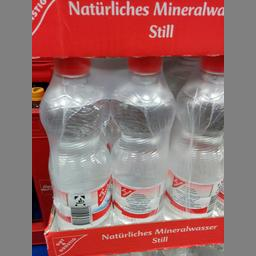water: (40, 57, 111, 222), (107, 57, 176, 222), (164, 56, 222, 216)
